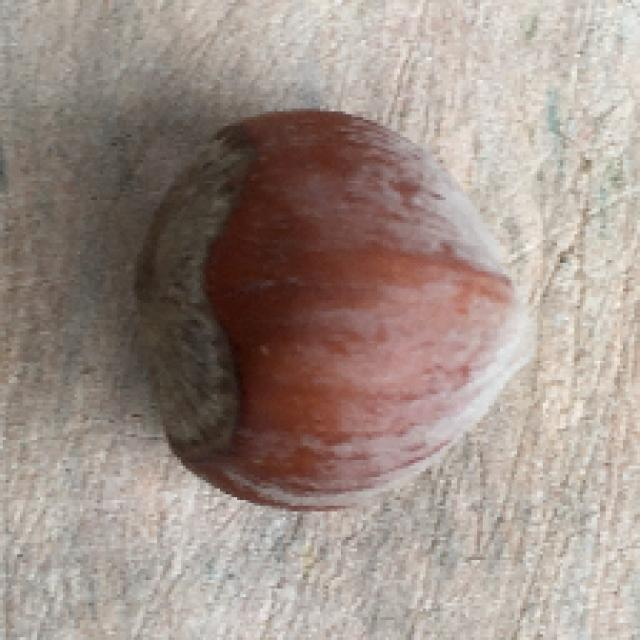qualityHazelnut: (121, 97, 544, 527)
